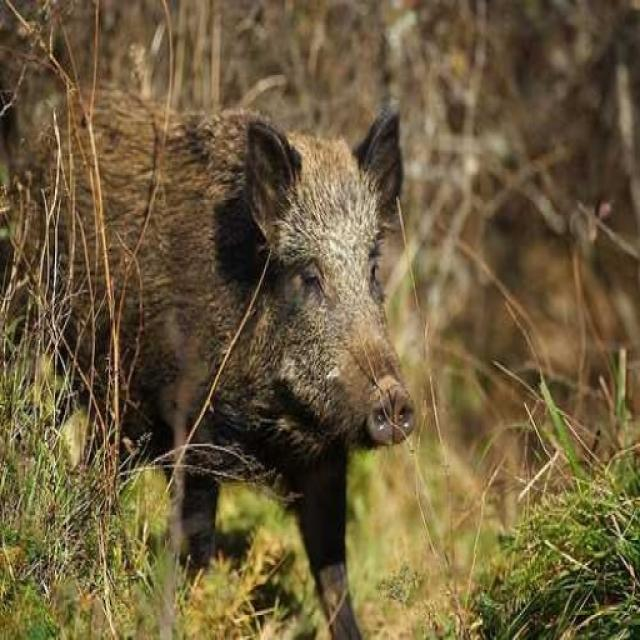pig: (18, 40, 427, 604)
